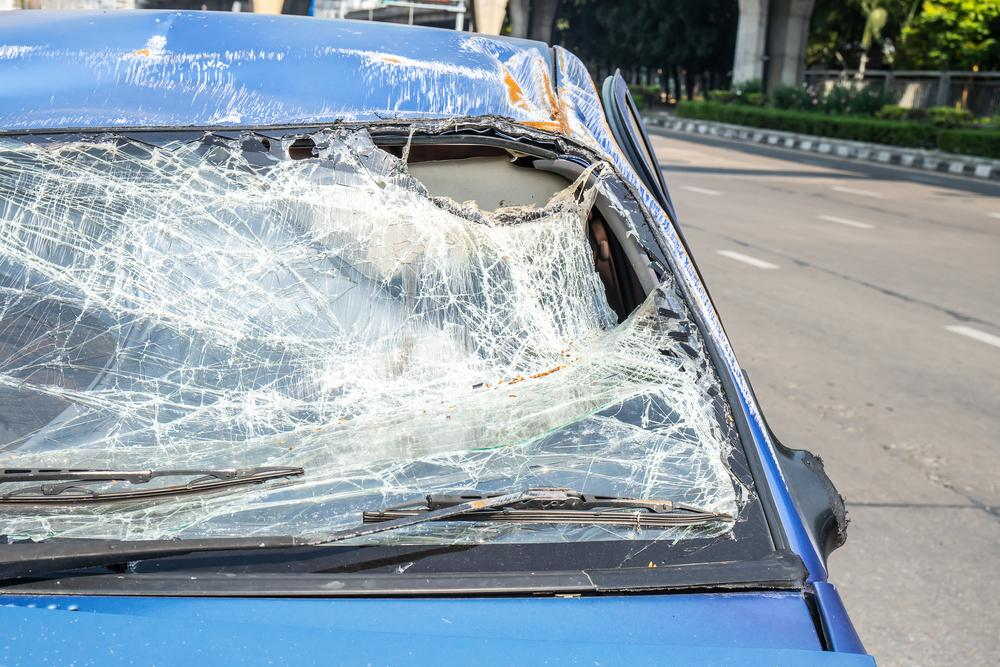glass shatter: (0, 125, 777, 574)
scratch: (0, 17, 792, 493)
